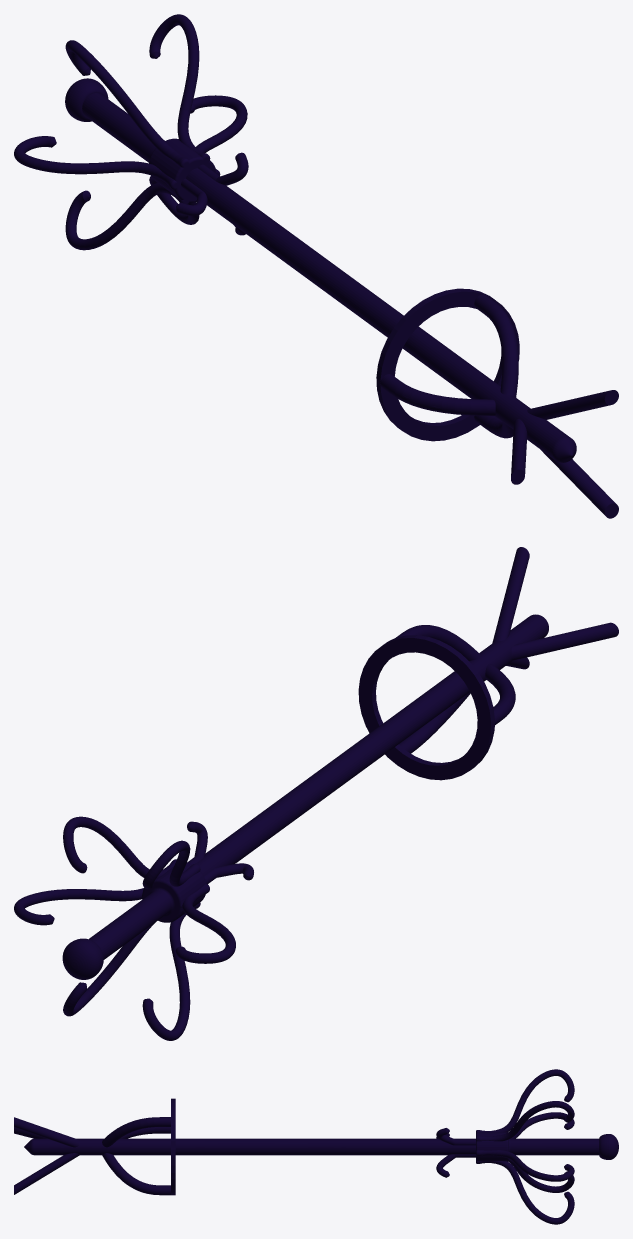
The model's file is klädhängare.fbx.
3 views of the same model, one above another, from view 1: azimuth 30°, elevation 25°; view 2: azimuth 150°, elevation 25°; view 3: azimuth 270°, elevation 25° (orthographic). The views are drawn at different scales.
Visible parts, largest first — view 1: klädhängare; view 2: klädhängare; view 3: klädhängare.
Part boxes in pixels (<box>): klädhängare: <box>14,14,618,518</box>; klädhängare: <box>14,547,618,1040</box>; klädhängare: <box>14,1069,618,1224</box>.
Bounding box in the file's own units: 9476 × 8260 × 36800.
